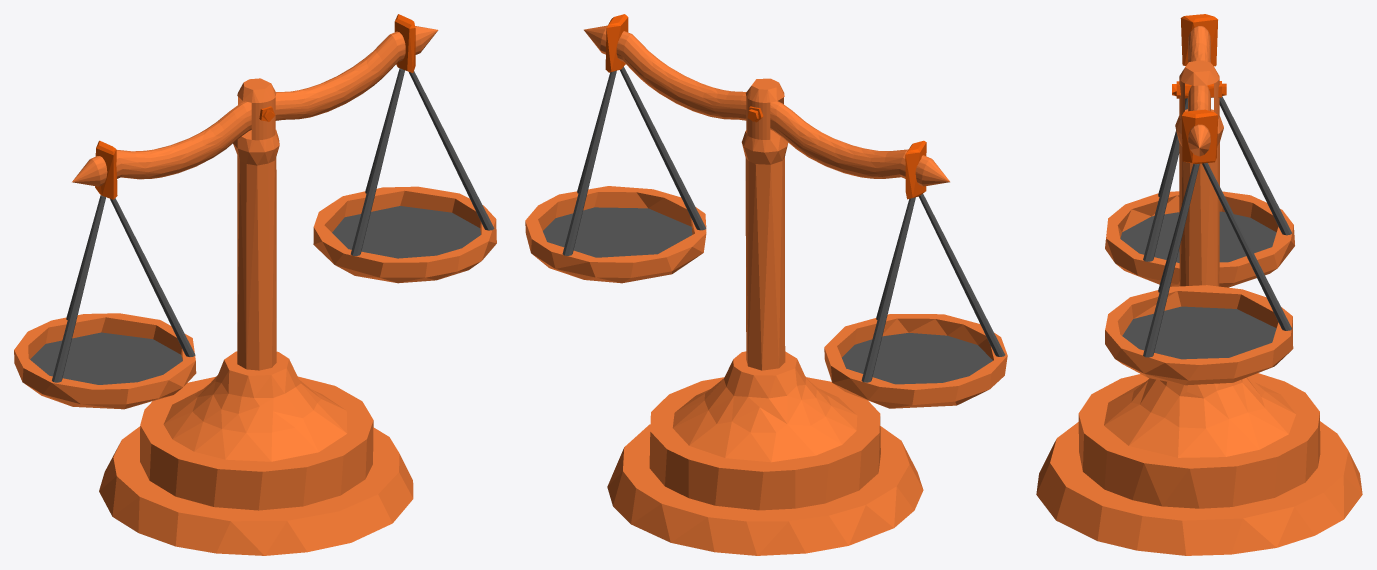
The model's file is Shop_scale_1.fbx.
The picture shows the model from 3 angles, left to right: view 1: azimuth 30°, elevation 25°; view 2: azimuth 150°, elevation 25°; view 3: azimuth 270°, elevation 25°; orthographic projection. The views are drawn at different scales.
Visible parts, largest first — view 1: Weight, WeightingSlot_1, WeightingSlot_2, WeightArm; view 2: Weight, WeightingSlot_1, WeightingSlot_2, WeightArm; view 3: Weight, WeightingSlot_1, WeightingSlot_2, WeightArm.
Boxes of the visible parts, x1,y1,x2,y2 form: Weight: (99, 78, 413, 555); WeightingSlot_1: (313, 14, 496, 283); WeightingSlot_2: (14, 140, 196, 409); WeightArm: (72, 26, 438, 186); Weight: (607, 78, 923, 555); WeightingSlot_1: (525, 14, 706, 283); WeightingSlot_2: (824, 140, 1007, 408); WeightArm: (584, 25, 949, 186); Weight: (1036, 60, 1362, 555); WeightingSlot_1: (1105, 109, 1293, 385); WeightingSlot_2: (1105, 14, 1294, 287); WeightArm: (1188, 26, 1210, 156).
Bounding box in the file's own units: 100 × 91.06 × 59.86.
